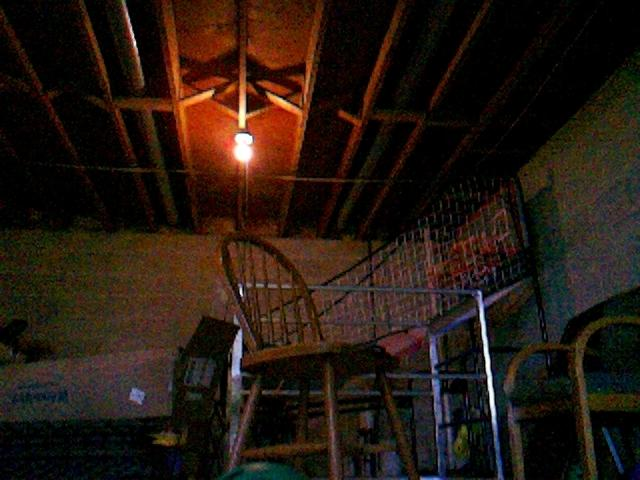Green: (214, 458, 309, 478)
